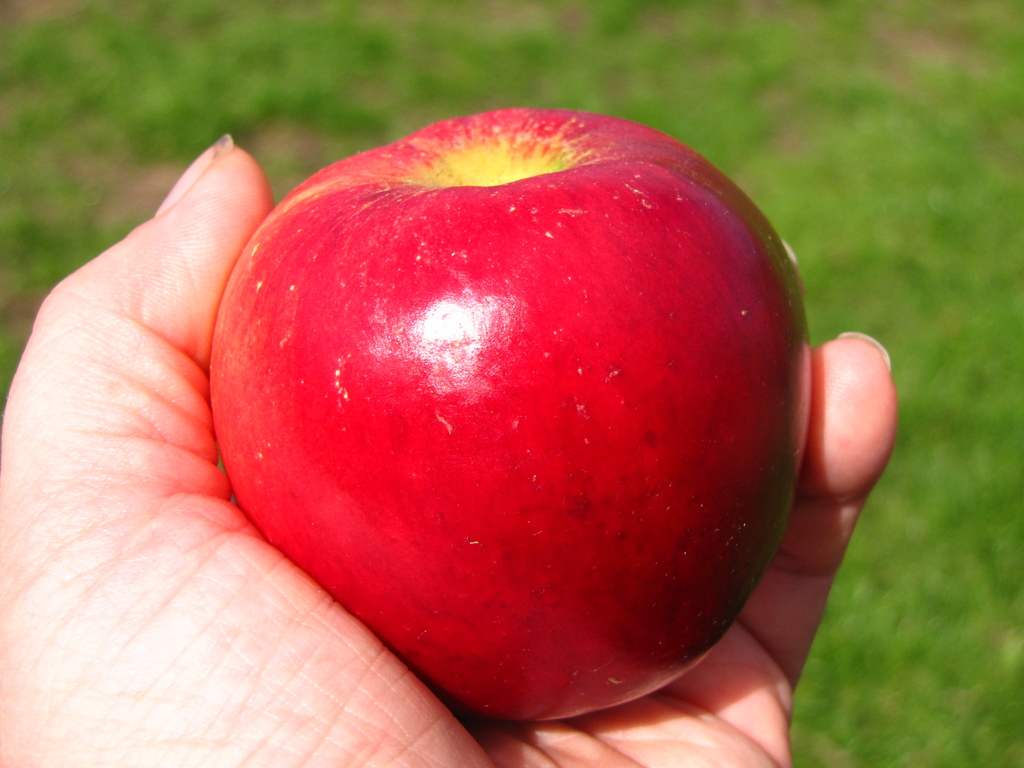Apple: (219, 80, 825, 754)
